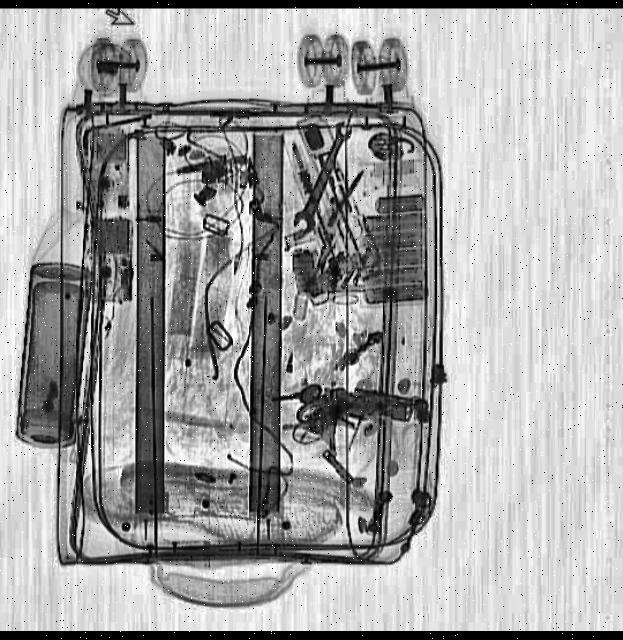Wrench: (293, 120, 359, 238)
